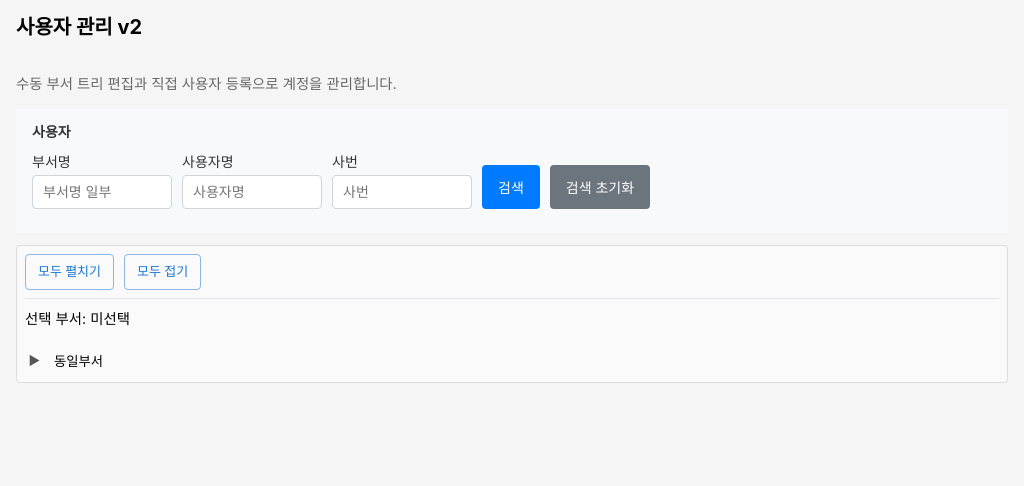
Test: UserManagement › req 20260408 grid search: TC-04 user name filter › hides non-matching user rows when filtering by 사용자명
Expected: the button "동일부서" is shown, [47,348,110,374]
Type "홍길" into the field named "사용자명 필터" at {"x": 252, "y": 192}, box [182,175,322,209]
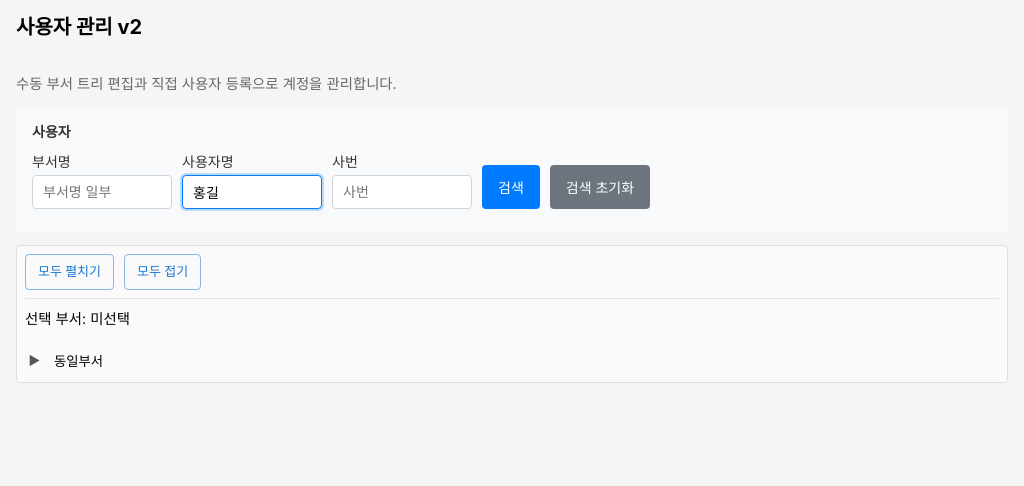
Click the button "검색" at {"x": 511, "y": 187}, box [482,165,540,209]
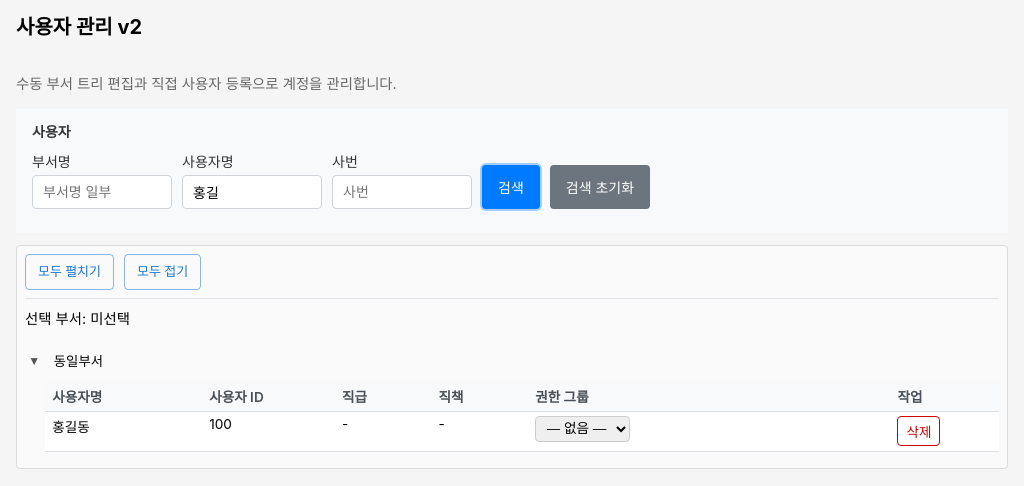
Result: the text "홍길동" is shown at [45,411,202,451]
